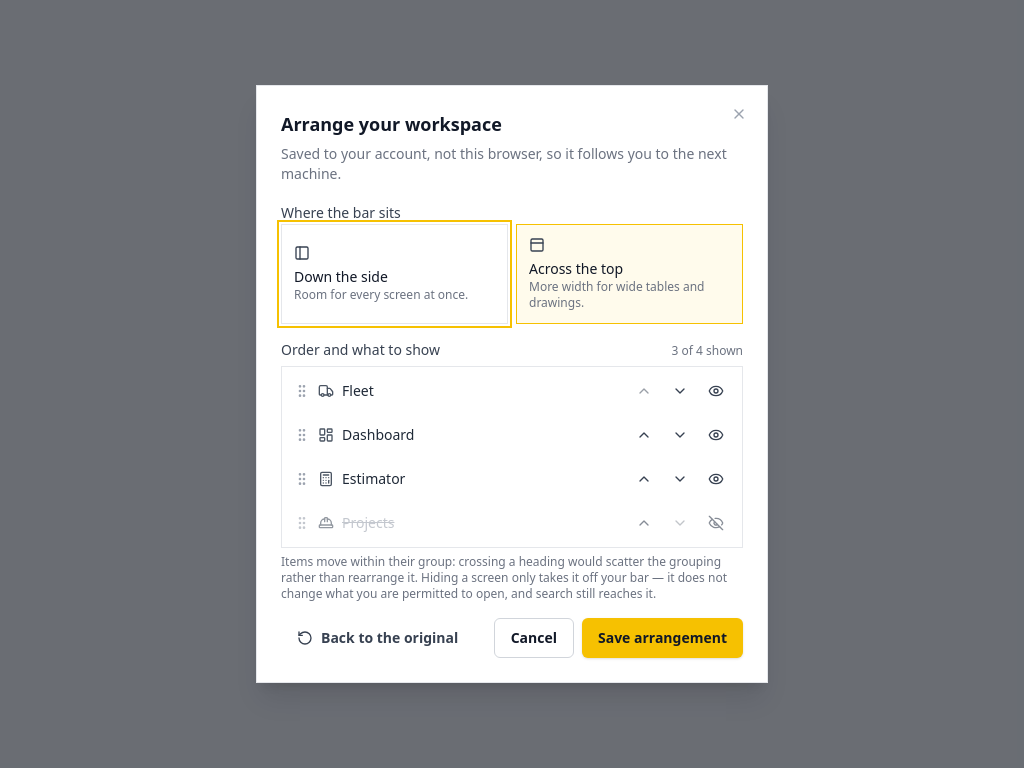
Test: the arrange dialog › puts everything back where it shipped
Click the button "Back to the original": {"x": 378, "y": 638} x1=281 y1=618 x2=474 y2=658
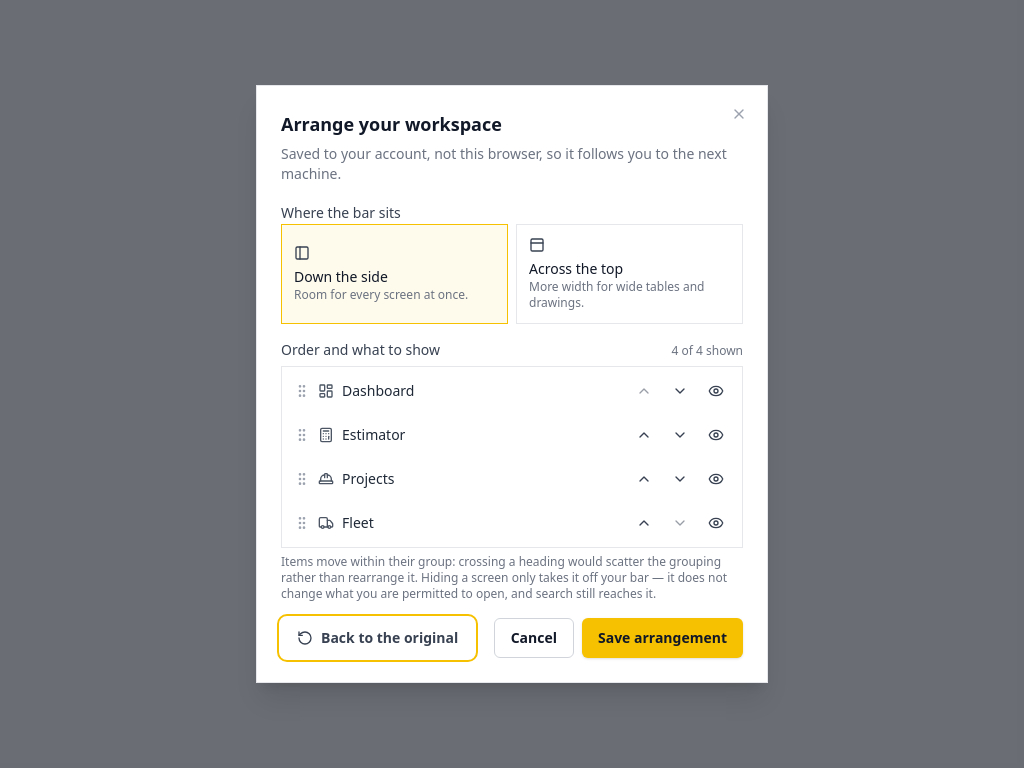
expect the text "4 of 4 shown" is shown: met, box x1=672 y1=343 x2=743 y2=359
